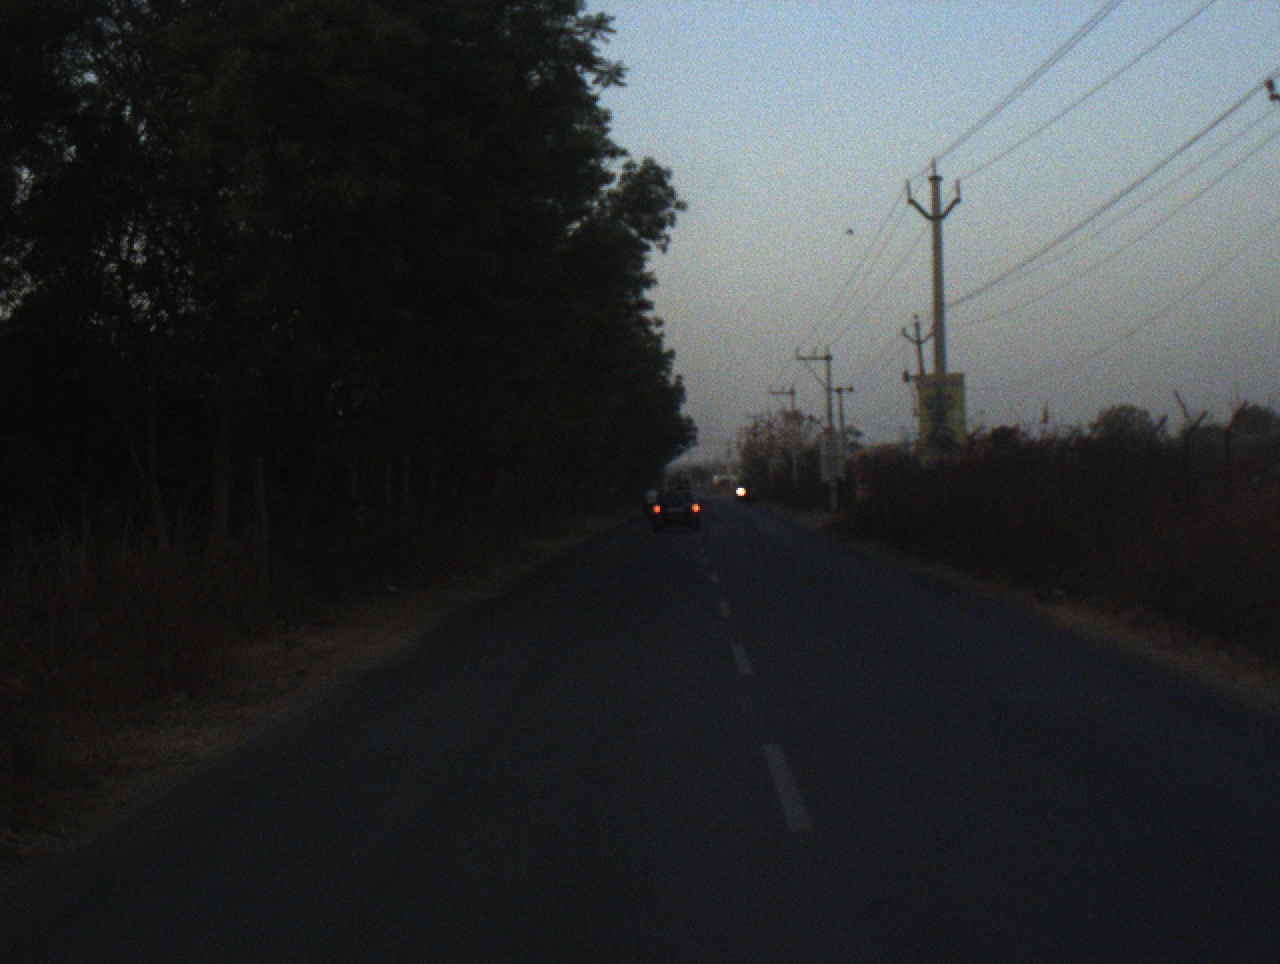autorickshaw: (665, 469, 695, 495)
car: (648, 490, 702, 533)
motorcycle: (645, 499, 654, 519)
rider: (642, 484, 658, 505)
vehicle fallback: (731, 476, 752, 504)
